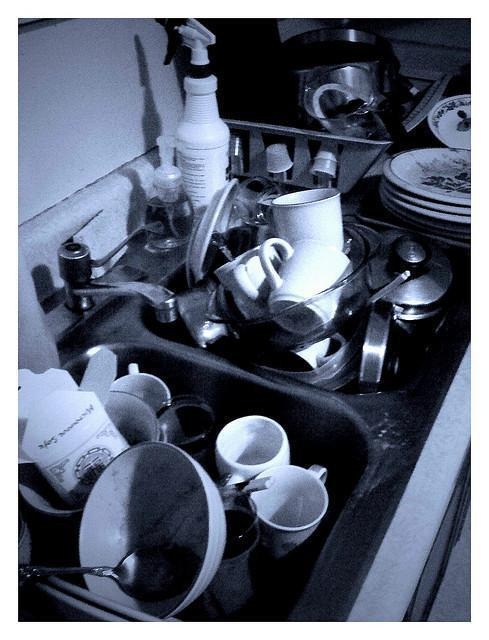Lavaplatos: (14, 176, 465, 620)
